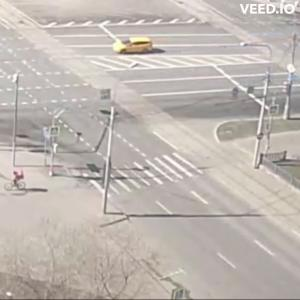car: (114, 36, 157, 58)
